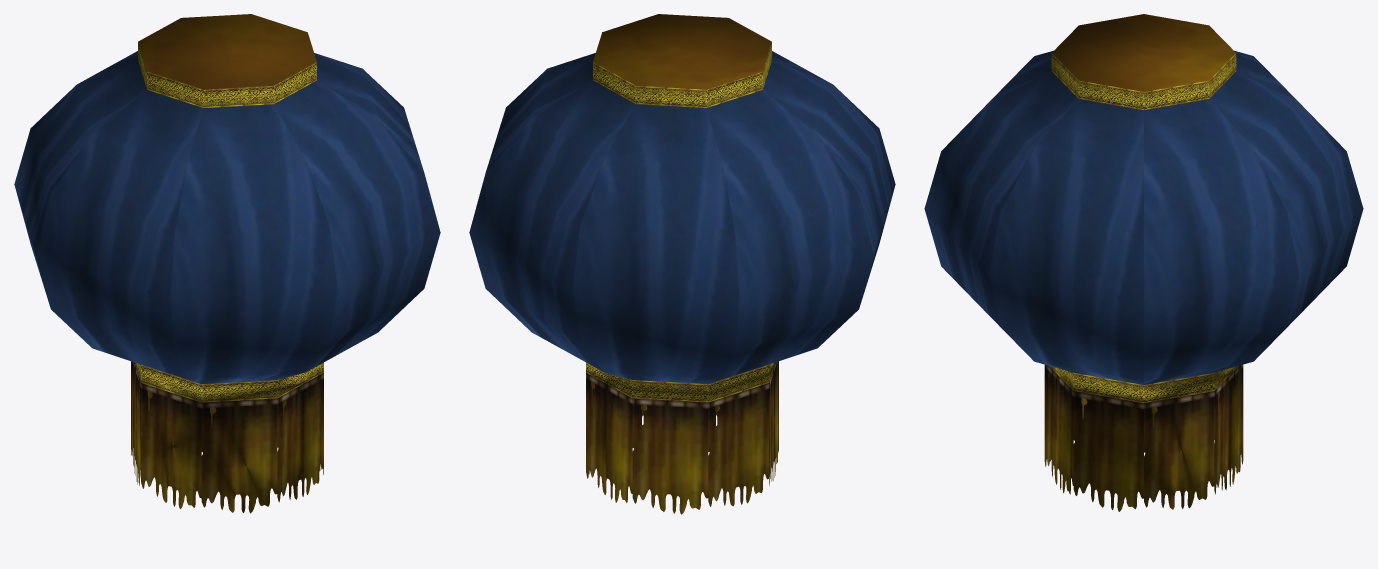
The model's file is GS_VOB_LITTLELANTERN_02.glb.
3 views of the same model, side by side, from view 1: azimuth 30°, elevation 25°; view 2: azimuth 150°, elevation 25°; view 3: azimuth 270°, elevation 25° (orthographic).
Visible parts, largest first — view 1: Mesh; view 2: Mesh; view 3: Mesh.
Boxes of the visible parts, x1,y1,x2,y2 form: Mesh: (14,14,440,513); Mesh: (469,14,895,514); Mesh: (924,14,1363,511).
Size of the model in its own units: 0.4777 by 0.5522 by 0.4777.
3 materials, 3 textured.
